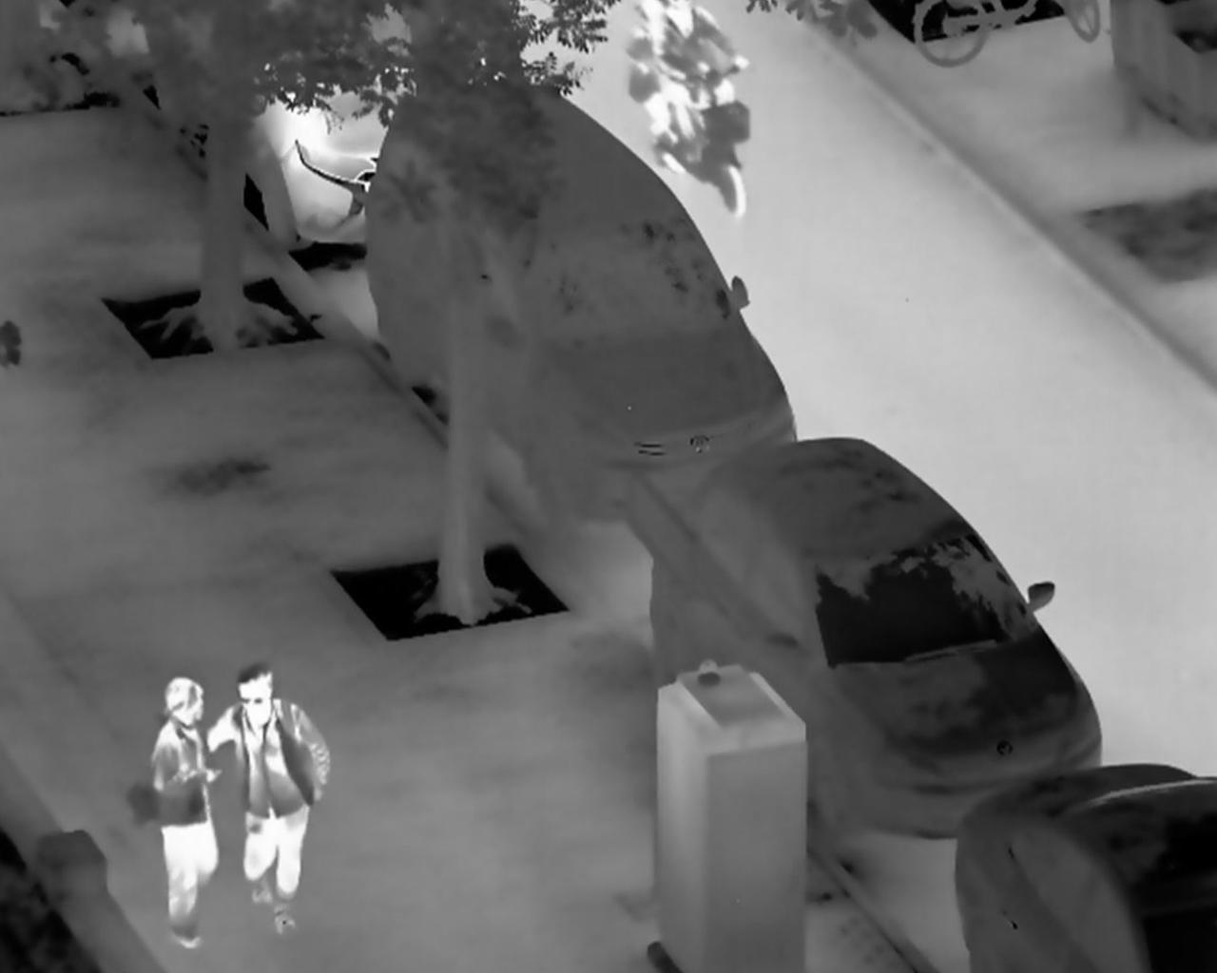person: (205, 659, 332, 936), (145, 675, 227, 951)
